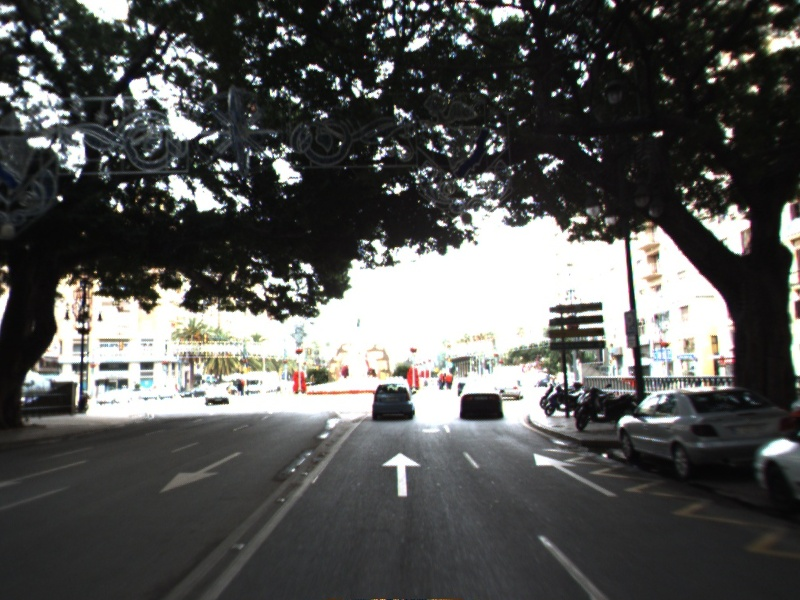STRAIGHT: (531, 451, 620, 499), (379, 450, 424, 499)
